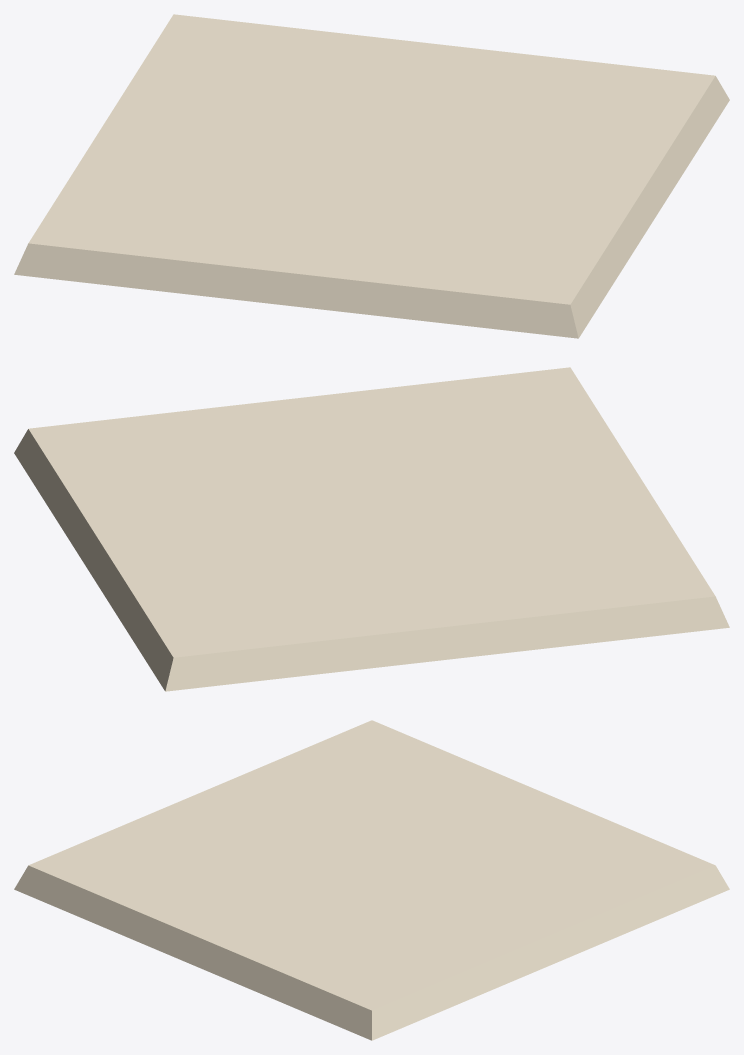
File: SunnyLoop_Space_Inlay_Diamond_v1.fbx
3 renders of one model, top to bottom at view 1: azimuth 30°, elevation 25°; view 2: azimuth 150°, elevation 25°; view 3: azimuth 270°, elevation 25°, orthographic. The views are drawn at different scales.
Visible parts, largest first — view 1: SunnyLoop_Space_Inlay_Diamond_v1; view 2: SunnyLoop_Space_Inlay_Diamond_v1; view 3: SunnyLoop_Space_Inlay_Diamond_v1.
Part boxes in pixels (x1,y1,x2,y2): SunnyLoop_Space_Inlay_Diamond_v1: (14, 14, 729, 338); SunnyLoop_Space_Inlay_Diamond_v1: (14, 367, 729, 691); SunnyLoop_Space_Inlay_Diamond_v1: (14, 720, 729, 1040).
Bounding box in the file's own units: 2.18 × 0.0812 × 2.18.
